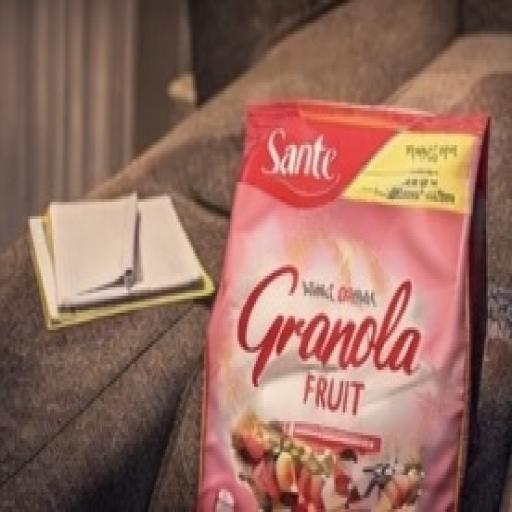granola: (184, 75, 485, 503)
